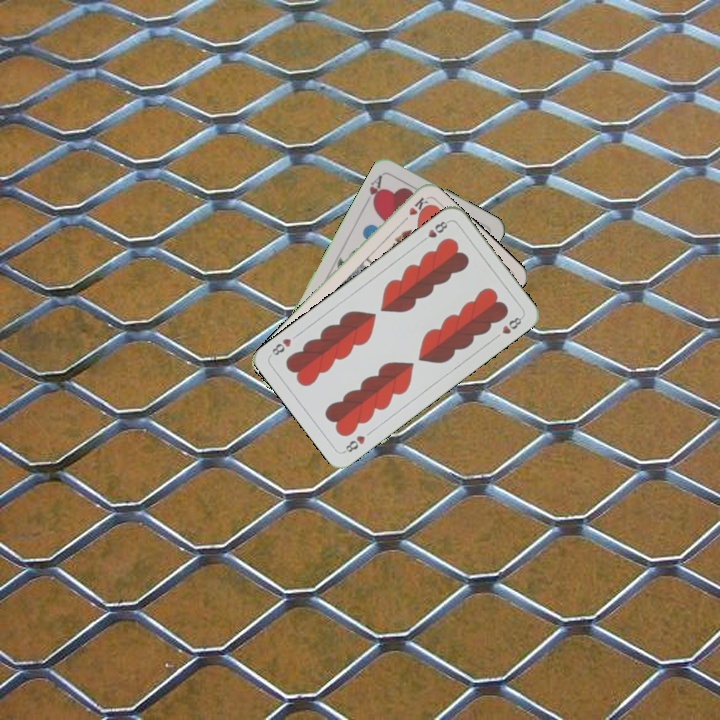H8: (417, 217, 452, 245), (339, 431, 368, 456)
HA: (365, 171, 386, 209)
HK: (396, 193, 430, 227)
